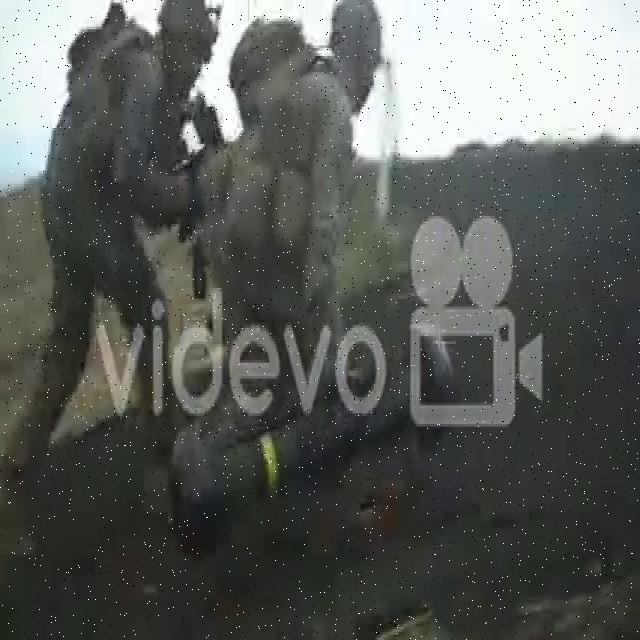bazooka: (166, 330, 452, 569)
